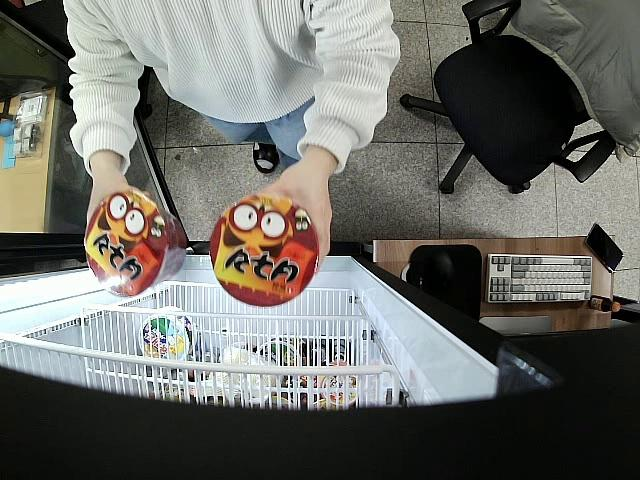00_hand: (252, 161, 334, 277)
05_nuguri_L: (210, 194, 319, 307), (83, 191, 187, 299)
